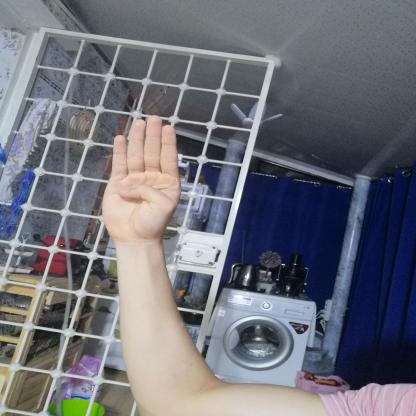KAAF: (88, 106, 195, 253)
